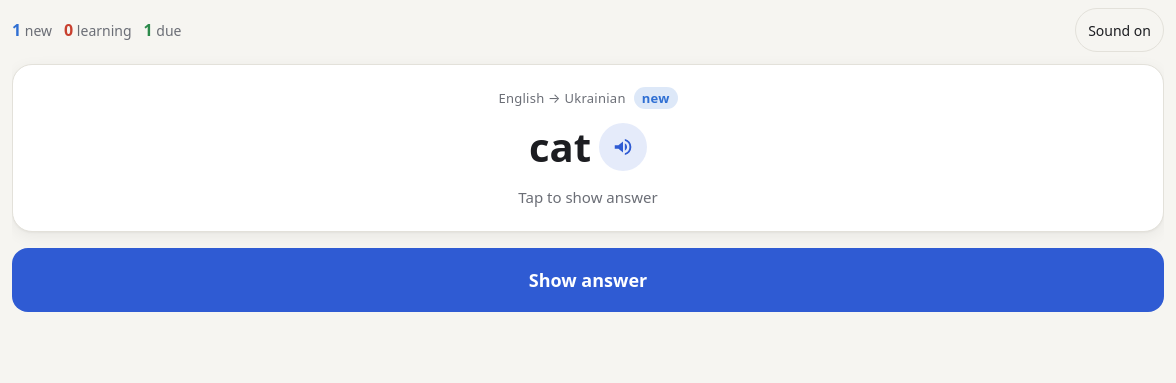
Test case: ReviewScreen › shows the front, reveals on tap, rates, and moves to the next card
expect the text "cat" is shown: met, box [529,123,591,171]
expect the text "English → Ukrainian" is shown: met, box [498,89,626,107]
Click the element with test id "card" at (588, 148), box [12,64,1164,232]
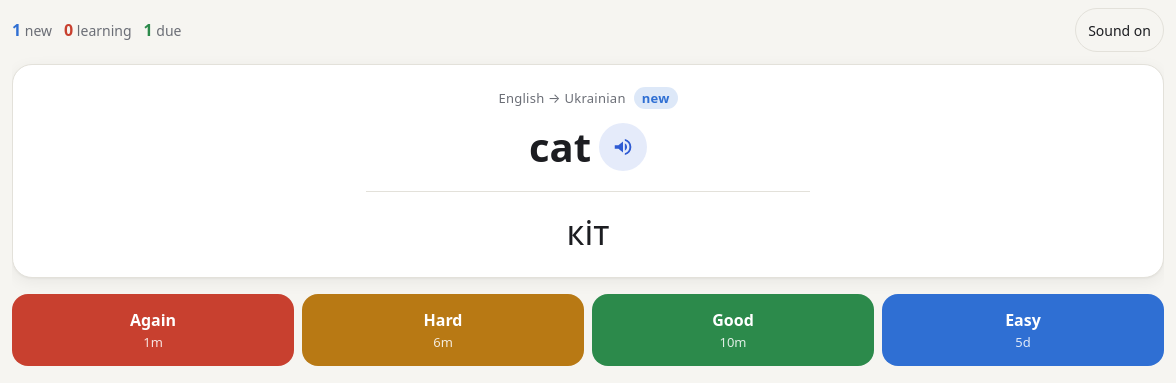
expect the text "кіт" is shown: met, box [566,212,610,253]
expect the button "Again 1m" is shown: met, box [12,294,294,366]
expect the button "Easy 5d" is shown: met, box [882,294,1164,366]
Click the button "Good 10m" at (733, 330), box [592,294,874,366]
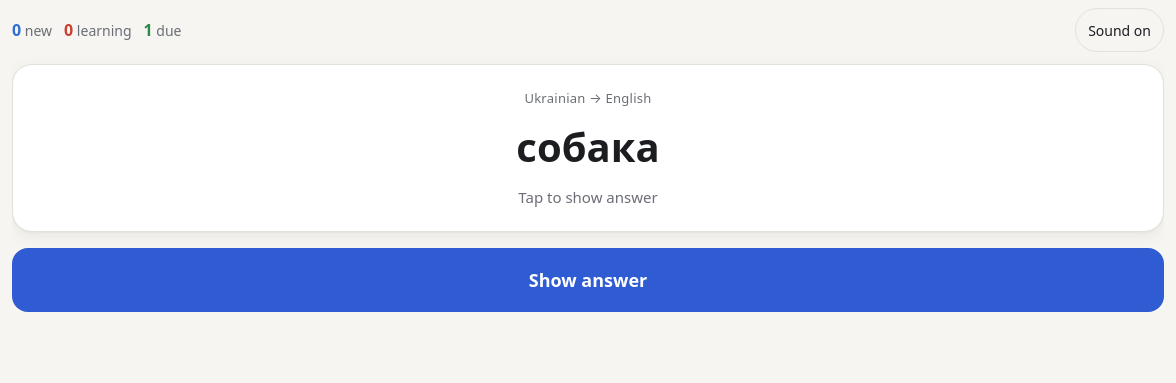
expect the text "собака" is shown: met, box [516,123,660,171]
